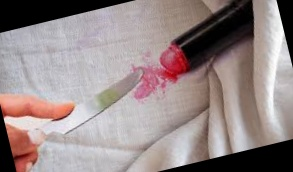lipstick: (122, 51, 177, 111)
